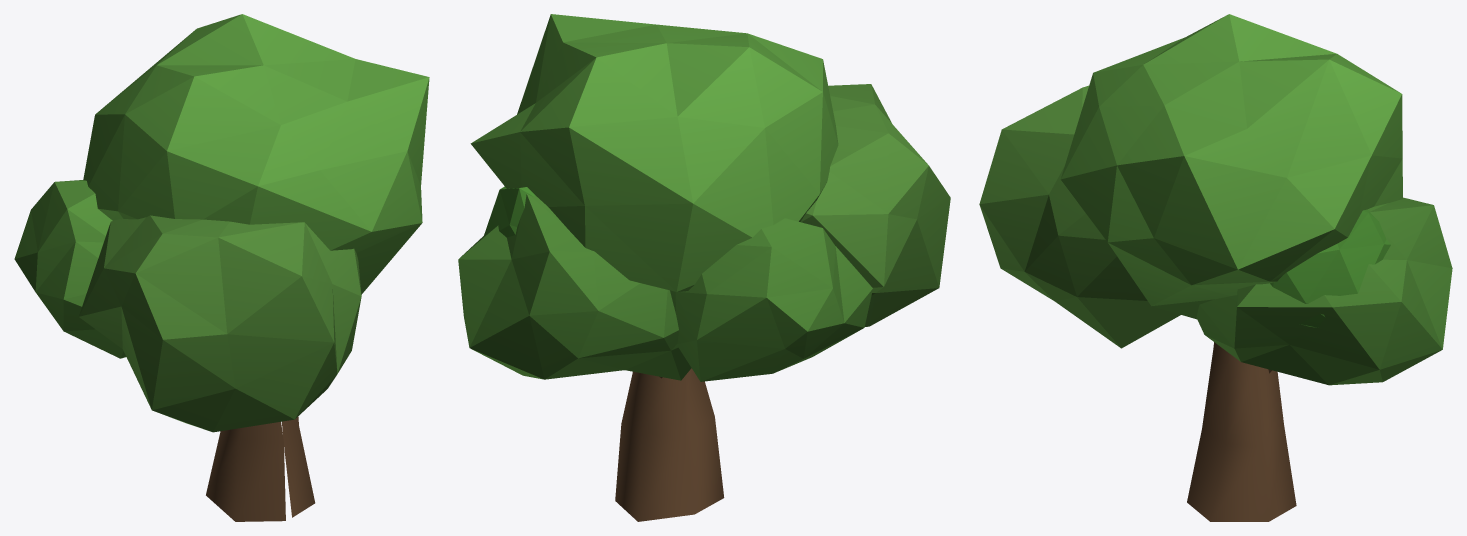
Rendered from arbol_1.glb.
3 views of the same model, side by side, from view 1: azimuth 30°, elevation 25°; view 2: azimuth 150°, elevation 25°; view 3: azimuth 270°, elevation 25° (orthographic). The views are drawn at different scales.
Parts seen in each view (by area): view 1: arbol_1; view 2: arbol_1; view 3: arbol_1.
Part boxes in pixels (bbox=[...]): arbol_1: bbox=[14, 14, 429, 521]; arbol_1: bbox=[458, 14, 950, 521]; arbol_1: bbox=[979, 14, 1452, 521].
Size of the model in its own units: 0.5405 by 0.6632 by 0.6209.
